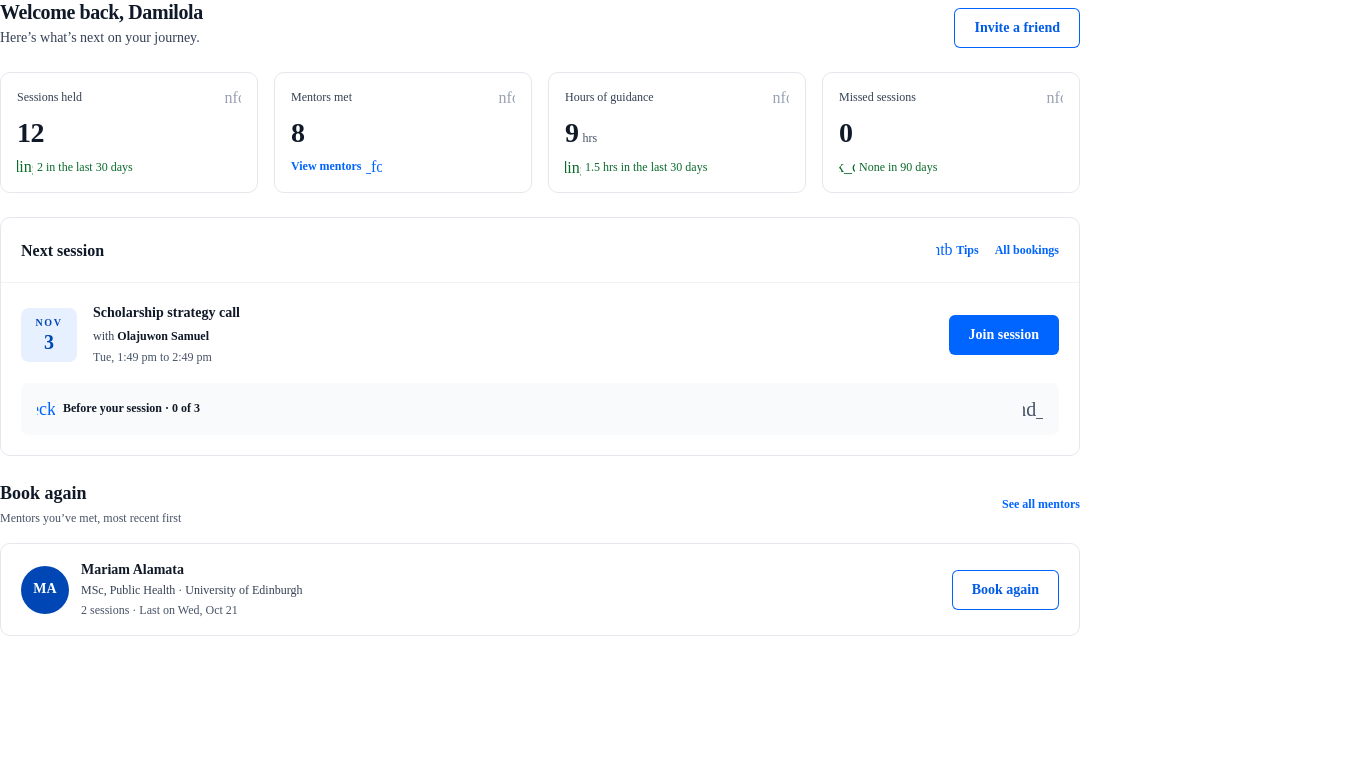
Test: MenteeHomeScreen › lists Book-again mentors, and "View mentors" opens Mentors you’ve met
This screenshot has width=1366, height=768.
Check: the heading "Book again" is shown, box [0,482,86,502]
Check: the text "Mariam Alamata" is shown, box [81,562,184,577]
Click the button "View mentors arrow_forward" at (336, 167), box [291,151,382,183]
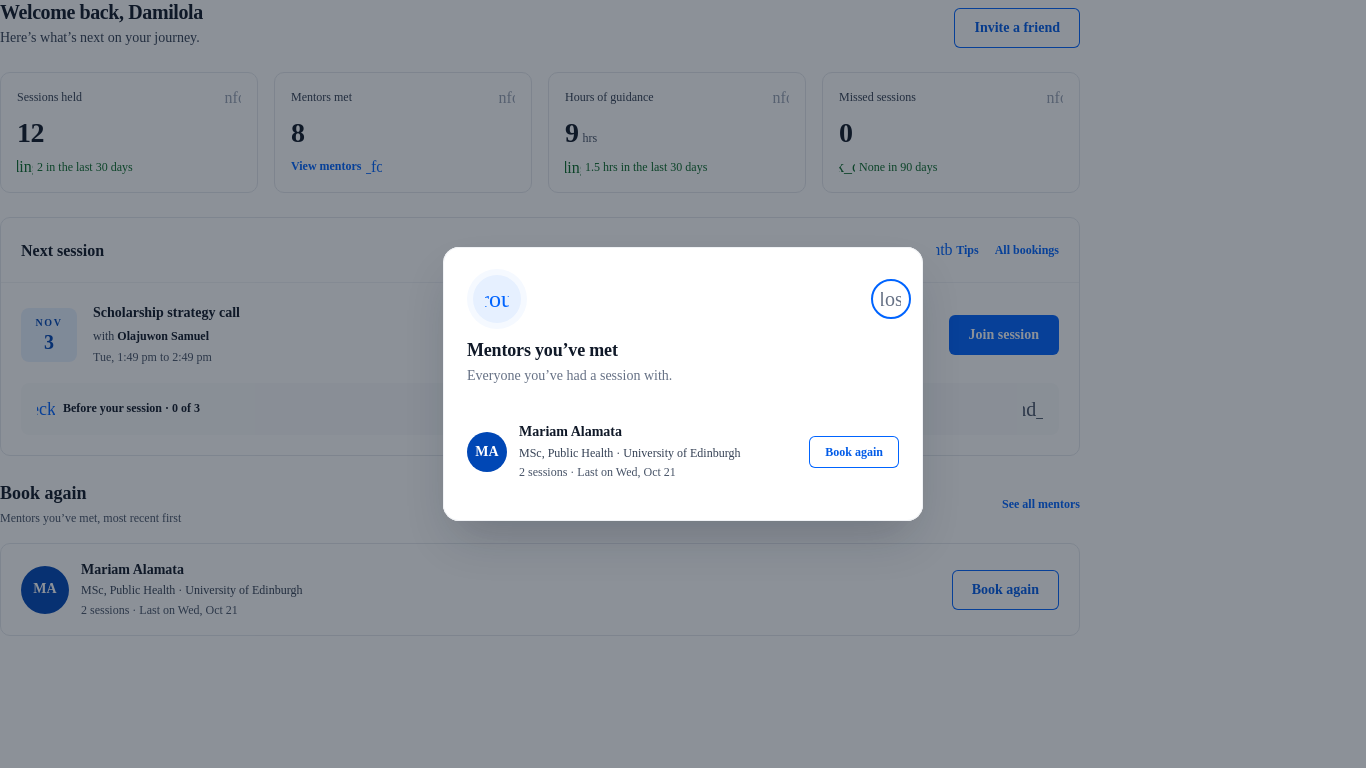
Check: the dialog "Mentors you’ve met" is shown, box [443,247,923,521]
